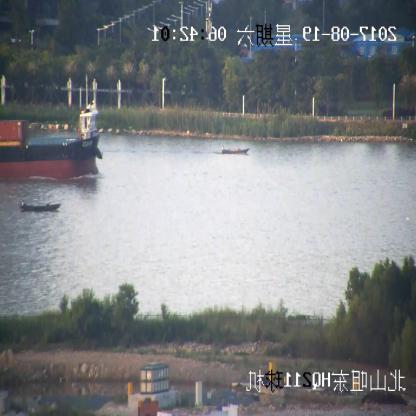Fishing Boat: (21, 199, 60, 213), (221, 144, 250, 156)
